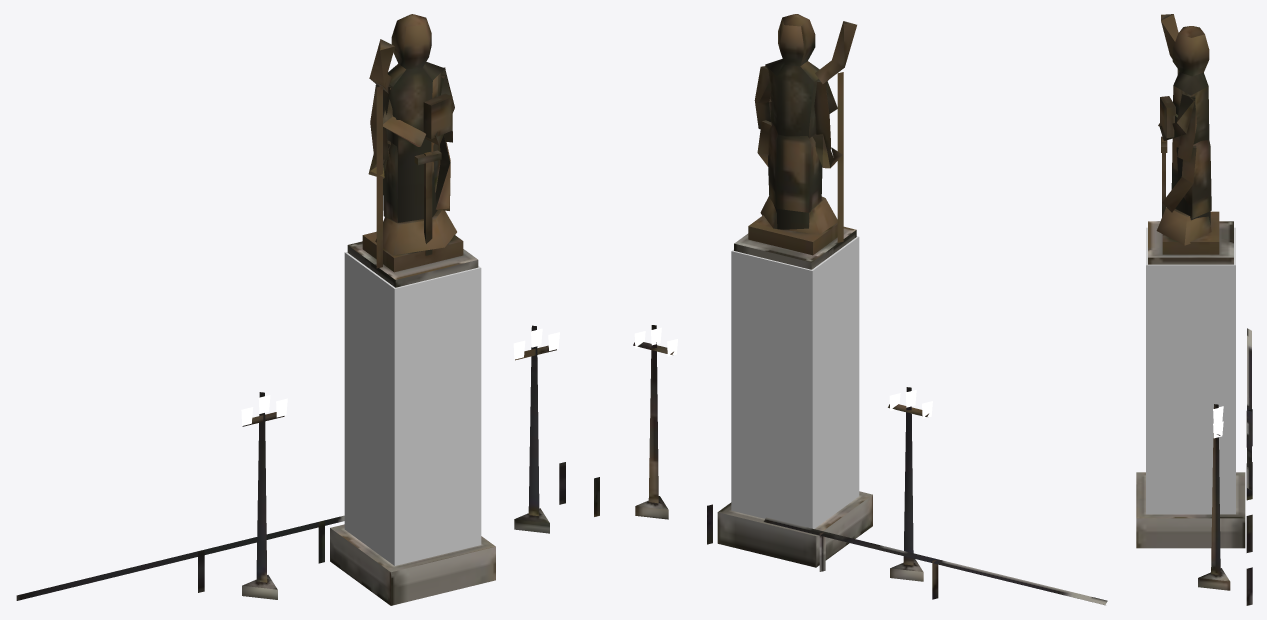
The model's file is tank_bund_statue.glb.
The picture shows the model from 3 angles, left to right: view 1: azimuth 30°, elevation 25°; view 2: azimuth 150°, elevation 25°; view 3: azimuth 270°, elevation 25°; orthographic projection. The views are drawn at different scales.
Visible parts, largest first — view 1: COL_tb_plinth, tank_bund_statue_body, var_saint, var_poet, var_warrior, var_scholar, tb_lanterns; view 2: COL_tb_plinth, tank_bund_statue_body, var_saint, var_poet, var_warrior, var_scholar, tb_lanterns; view 3: COL_tb_plinth, tank_bund_statue_body, var_saint, var_poet, var_warrior, var_scholar, tb_lanterns.
Part boxes in pixels (x1,y1,x2,y2): COL_tb_plinth: (344, 252, 481, 565); tank_bund_statue_body: (16, 241, 565, 605); var_saint: (362, 86, 463, 272); var_poet: (369, 39, 452, 222); var_warrior: (383, 14, 454, 255); var_scholar: (370, 75, 452, 159); tb_lanterns: (241, 328, 559, 425); COL_tb_plinth: (731, 236, 859, 528); tank_bund_statue_body: (594, 226, 1107, 605); var_saint: (748, 72, 843, 255); var_poet: (754, 21, 856, 229); var_warrior: (761, 14, 837, 113); var_scholar: (757, 67, 830, 149); tb_lanterns: (634, 327, 932, 418); COL_tb_plinth: (1146, 227, 1235, 514); tank_bund_statue_body: (1136, 221, 1252, 605); var_saint: (1156, 69, 1219, 254); var_poet: (1161, 14, 1210, 224); var_warrior: (1158, 26, 1209, 216); var_scholar: (1160, 95, 1196, 137); tb_lanterns: (1213, 406, 1223, 438).
Size of the model in its own units: 44.36 by 42.9 by 9.05.
2 materials, 1 textured.
